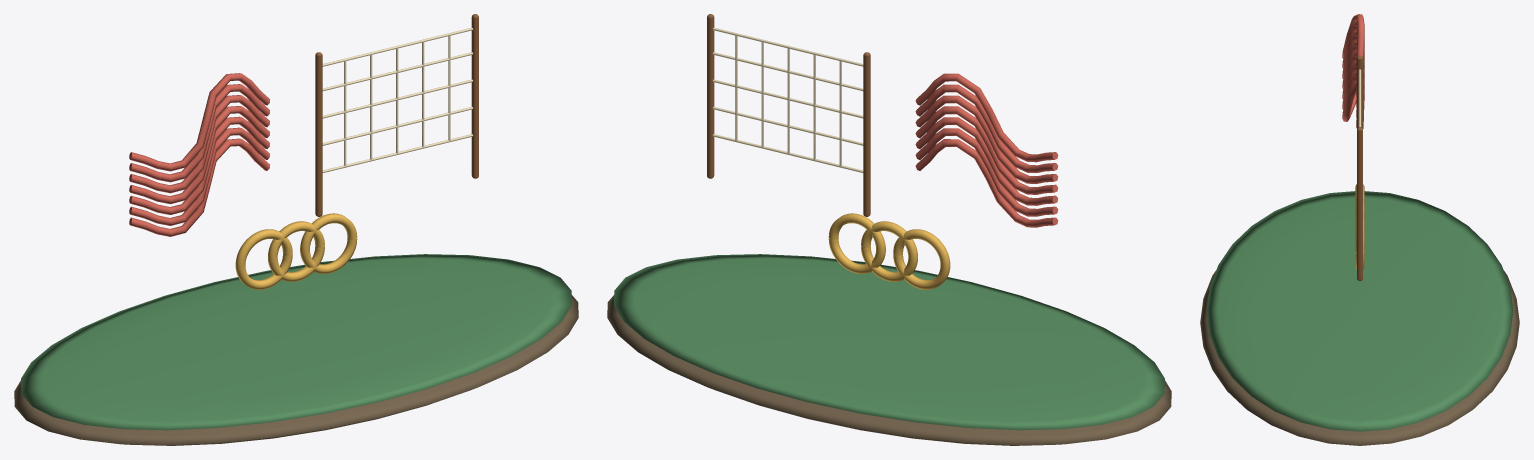
The model's file is complete-second-group-weaving.glb.
3 views of the same model, side by side, from view 1: azimuth 30°, elevation 25°; view 2: azimuth 150°, elevation 25°; view 3: azimuth 270°, elevation 25° (orthographic). The views are drawn at different scales.
Visible parts, largest first — view 1: complete-second-group-weaving_surface_01, complete-second-group-weaving_surface_02, complete-second-group-weaving_surface_00, complete-second-group-weaving_surface_05, complete-second-group-weaving_surface_04, complete-second-group-weaving_surface_03; view 2: complete-second-group-weaving_surface_01, complete-second-group-weaving_surface_02, complete-second-group-weaving_surface_00, complete-second-group-weaving_surface_05, complete-second-group-weaving_surface_04, complete-second-group-weaving_surface_03; view 3: complete-second-group-weaving_surface_01, complete-second-group-weaving_surface_00, complete-second-group-weaving_surface_02, complete-second-group-weaving_surface_03, complete-second-group-weaving_surface_05.
Part boxes in pixels (<box>): complete-second-group-weaving_surface_01: <box>21,254,571,430</box>; complete-second-group-weaving_surface_02: <box>129,73,269,236</box>; complete-second-group-weaving_surface_00: <box>14,295,578,445</box>; complete-second-group-weaving_surface_05: <box>235,213,357,289</box>; complete-second-group-weaving_surface_04: <box>322,27,473,172</box>; complete-second-group-weaving_surface_03: <box>315,14,478,216</box>; complete-second-group-weaving_surface_01: <box>614,254,1164,430</box>; complete-second-group-weaving_surface_02: <box>915,73,1058,227</box>; complete-second-group-weaving_surface_00: <box>607,295,1171,445</box>; complete-second-group-weaving_surface_05: <box>828,213,950,289</box>; complete-second-group-weaving_surface_04: <box>712,27,863,172</box>; complete-second-group-weaving_surface_03: <box>707,14,870,216</box>; complete-second-group-weaving_surface_01: <box>1206,191,1513,431</box>; complete-second-group-weaving_surface_00: <box>1200,271,1519,445</box>; complete-second-group-weaving_surface_02: <box>1342,14,1364,128</box>; complete-second-group-weaving_surface_03: <box>1357,55,1362,280</box>; complete-second-group-weaving_surface_05: <box>1355,184,1364,268</box>.
Size of the model in its own units: 4.56 by 2.53 by 2.5.
